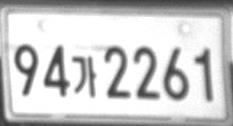1: (193, 48, 218, 101)
2: (104, 44, 131, 98), (133, 46, 159, 100)
4: (43, 44, 70, 97)
6: (162, 46, 189, 101)
9: (13, 43, 38, 96)
가: (71, 55, 97, 97)
